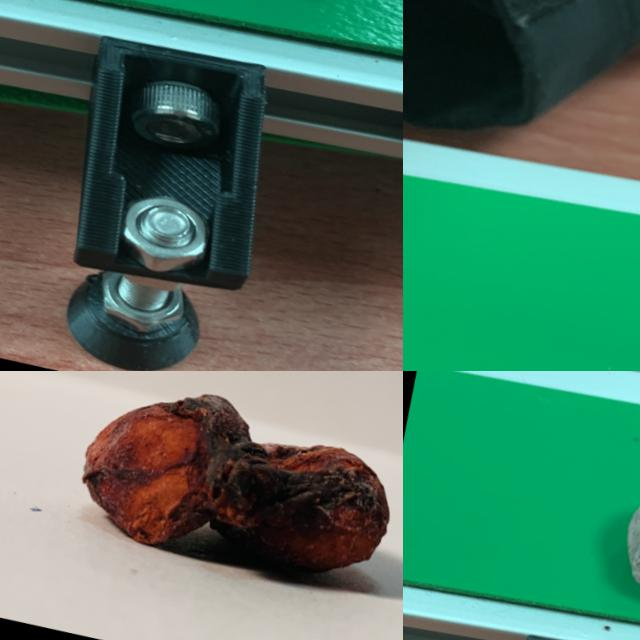Agglomerated_cocoabeans: (0, 371, 402, 639), (459, 402, 639, 639)
Flat_cocoabeans: (21, 0, 402, 86)
